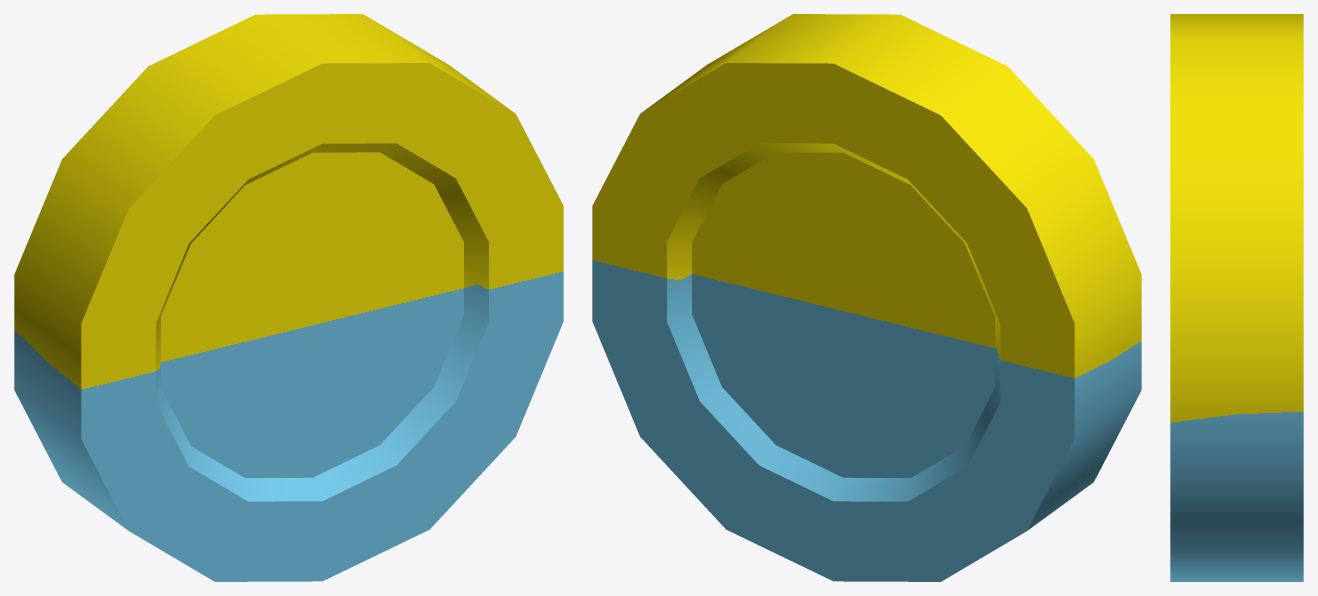
Rendered from coin.fbx.
The picture shows the model from 3 angles, left to right: view 1: azimuth 30°, elevation 25°; view 2: azimuth 150°, elevation 25°; view 3: azimuth 270°, elevation 25°; orthographic projection.
Parts seen in each view (by area): view 1: coin; view 2: coin; view 3: coin.
Boxes of the visible parts, x1,y1,x2,y2 form: coin: [14, 14, 563, 581]; coin: [592, 14, 1141, 581]; coin: [1170, 14, 1303, 581].
Size of the model in its own units: 5.66 by 5.8 by 1.36.
